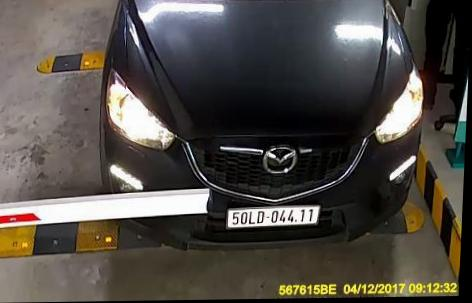License_Plate: (222, 197, 329, 232)
